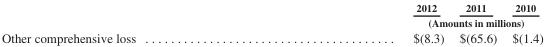table: (0, 0, 542, 44)
table column: (0, 0, 273, 44), (273, 0, 451, 44), (451, 0, 503, 44), (503, 0, 542, 44)
table column header: (0, 0, 542, 29)
table row: (0, 14, 542, 29), (0, 29, 542, 44), (0, 0, 542, 14)
table spanning cell: (273, 14, 542, 29)
